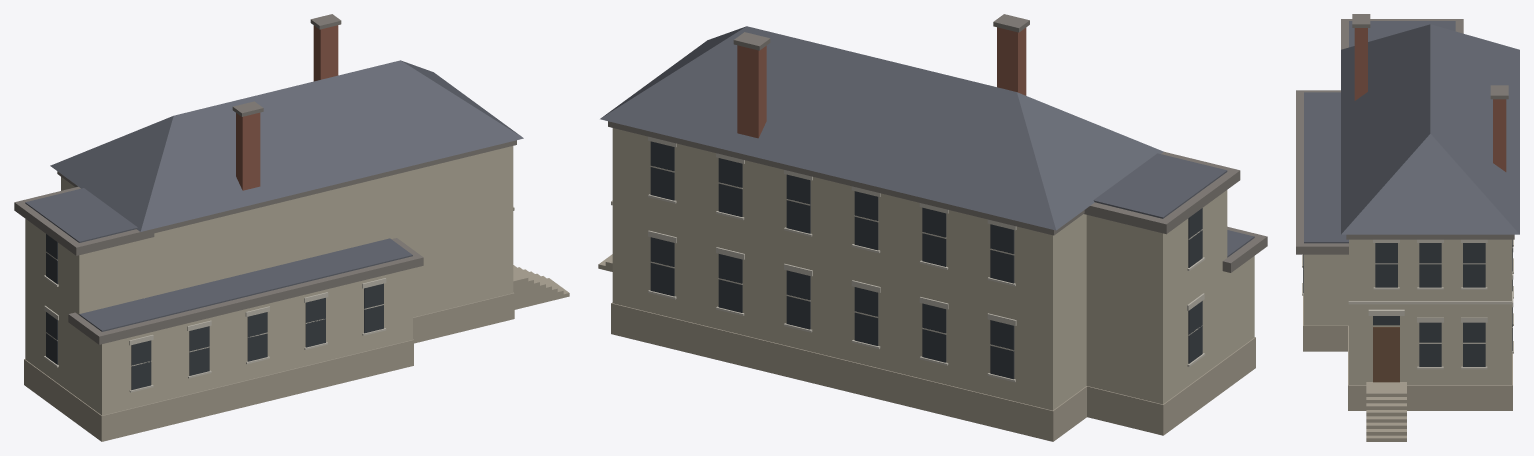
The model's file is house_1735_indiana__draft_1904.glb.
The picture shows the model from 3 angles, left to right: view 1: azimuth 30°, elevation 25°; view 2: azimuth 150°, elevation 25°; view 3: azimuth 270°, elevation 25°; orthographic projection. The views are drawn at different scales.
Visible parts, largest first — view 1: house_1735_indiana__draft_1904; view 2: house_1735_indiana__draft_1904; view 3: house_1735_indiana__draft_1904.
Boxes of the visible parts, x1,y1,x2,y2 form: house_1735_indiana__draft_1904: (14, 14, 569, 441); house_1735_indiana__draft_1904: (598, 14, 1267, 441); house_1735_indiana__draft_1904: (1296, 14, 1519, 441).
Bounding box in the file's own units: 25.65 × 13.09 × 9.95.
